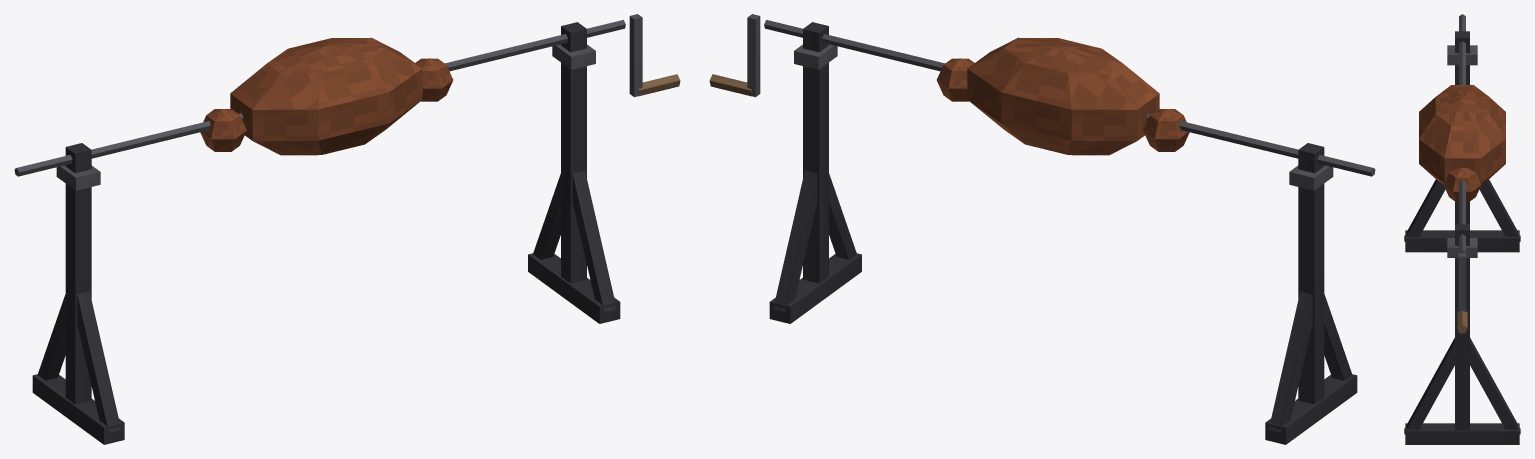
Rendered from spit-rotisserie.glb.
The picture shows the model from 3 angles, left to right: view 1: azimuth 30°, elevation 25°; view 2: azimuth 150°, elevation 25°; view 3: azimuth 270°, elevation 25°; orthographic projection. The views are drawn at different scales.
Visible parts, largest first — view 1: spit, firedogs; view 2: spit, firedogs; view 3: firedogs, spit.
Part boxes in pixels (x1,y1,x2,y2): spit: [14, 14, 680, 176]; firedogs: [32, 22, 620, 444]; spit: [709, 14, 1375, 176]; firedogs: [769, 22, 1357, 444]; firedogs: [1404, 31, 1520, 444]; spit: [1419, 14, 1505, 333].
Bounding box in the file's own units: 1.6 × 0.717 × 0.3068.
Materials: 1 (1 with a texture image).
